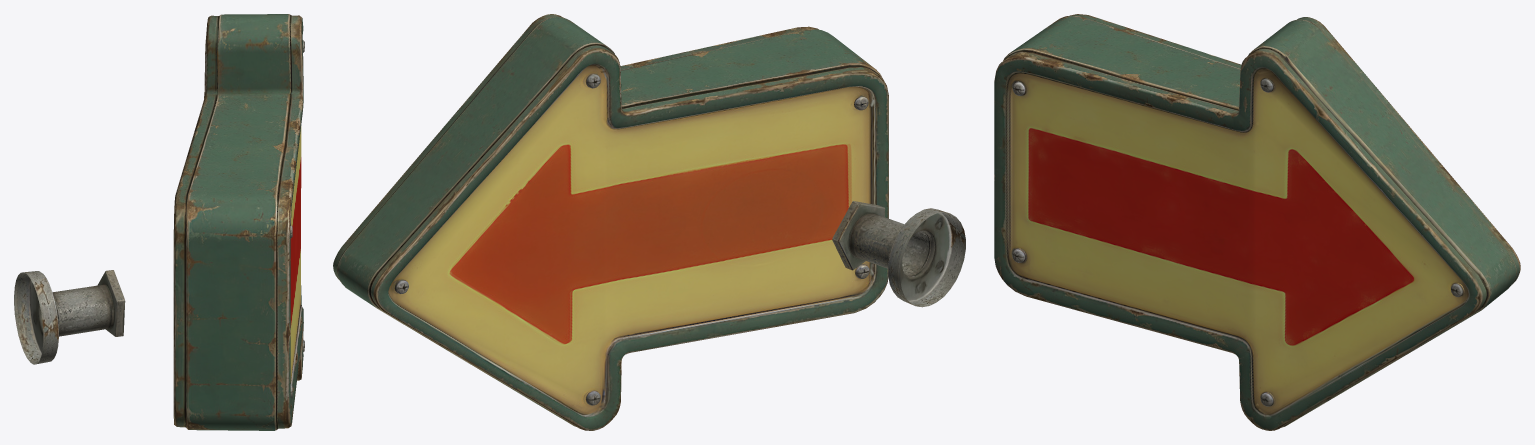
The model's file is P94_rotating_arrow_sign_Runtime_1k.glb.
3 views of the same model, side by side, from view 1: azimuth 30°, elevation 25°; view 2: azimuth 150°, elevation 25°; view 3: azimuth 270°, elevation 25° (orthographic). The views are drawn at different scales.
Parts seen in each view (by area): view 1: tripo_node_80e63d3c; view 2: tripo_node_80e63d3c; view 3: tripo_node_80e63d3c.
Boxes of the visible parts, <box> form: tripo_node_80e63d3c: <box>14,14,304,430</box>; tripo_node_80e63d3c: <box>333,14,965,430</box>; tripo_node_80e63d3c: <box>994,14,1520,430</box>.
Size of the model in its own units: 0.62 by 0.5058 by 0.634.
Materials: 1 (1 with a texture image).
